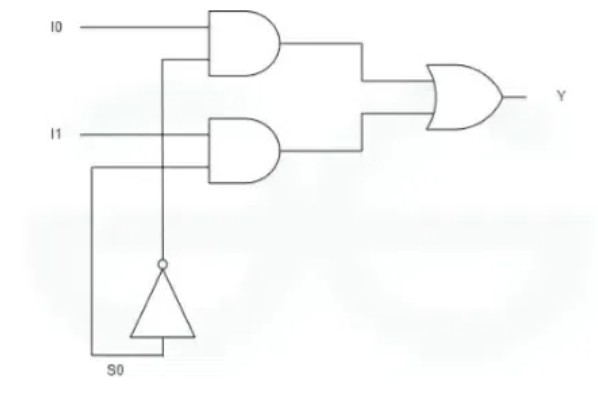and gate: (205, 113, 284, 189), (206, 7, 283, 80)
not gate: (125, 256, 202, 341)
or gate: (420, 58, 511, 135)
